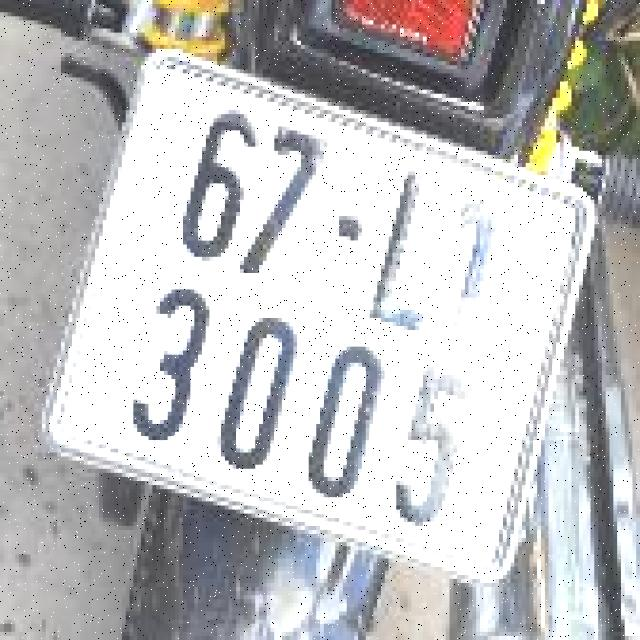0: (206, 296, 310, 484), (292, 328, 401, 507)
1: (428, 177, 519, 362)
3: (121, 278, 229, 454)
5: (373, 353, 487, 539)
6: (169, 97, 274, 269)
7: (229, 117, 341, 287)
L: (356, 151, 469, 342)
